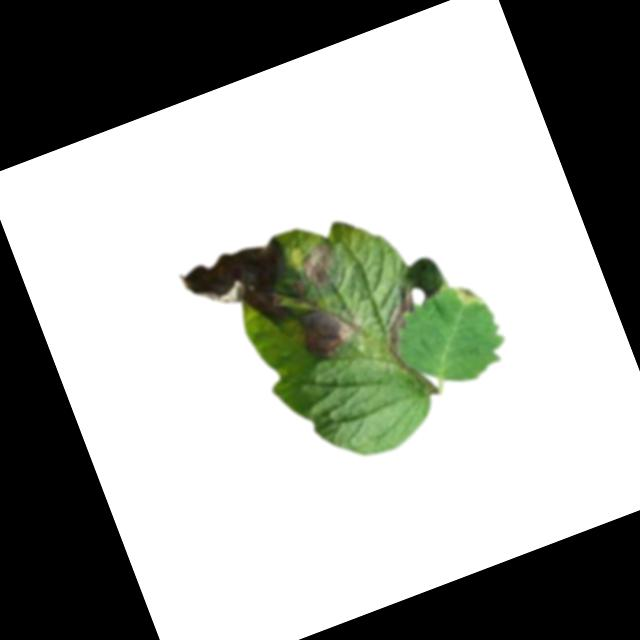Late_blight: (176, 231, 307, 352), (374, 291, 437, 375), (293, 293, 364, 363), (295, 236, 348, 294), (452, 280, 485, 310)
